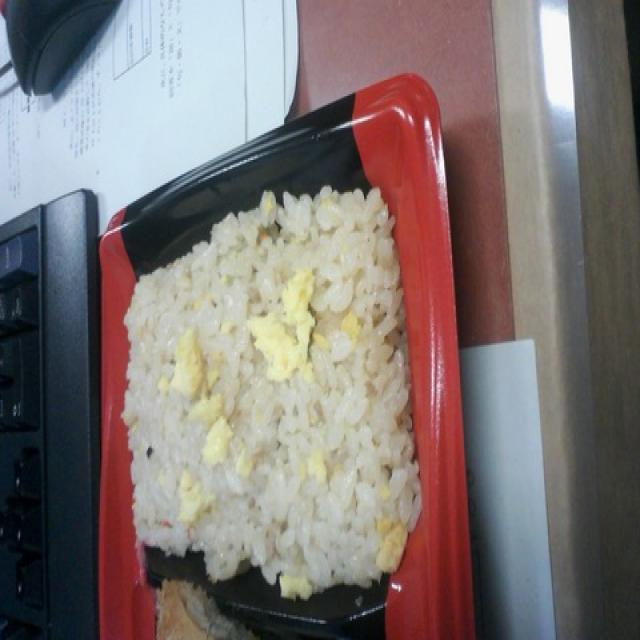米饭主食: (93, 64, 476, 640)
